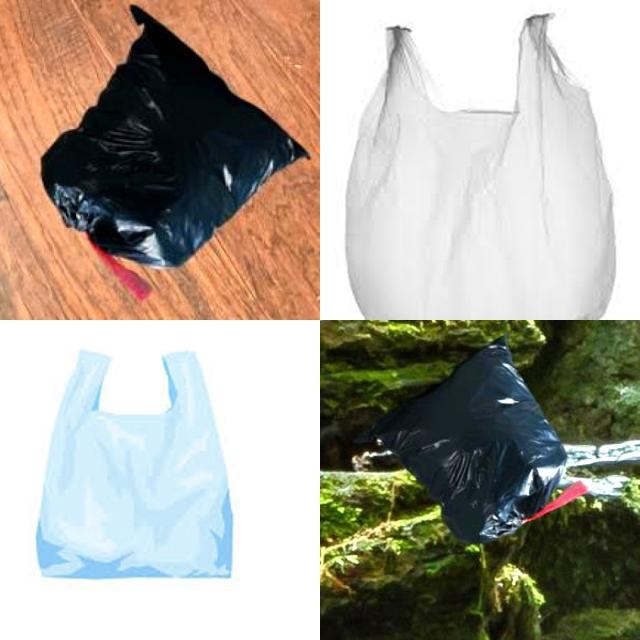Single-layer Plastic: (346, 15, 615, 319), (41, 6, 309, 301), (371, 336, 588, 542), (36, 351, 232, 579)
